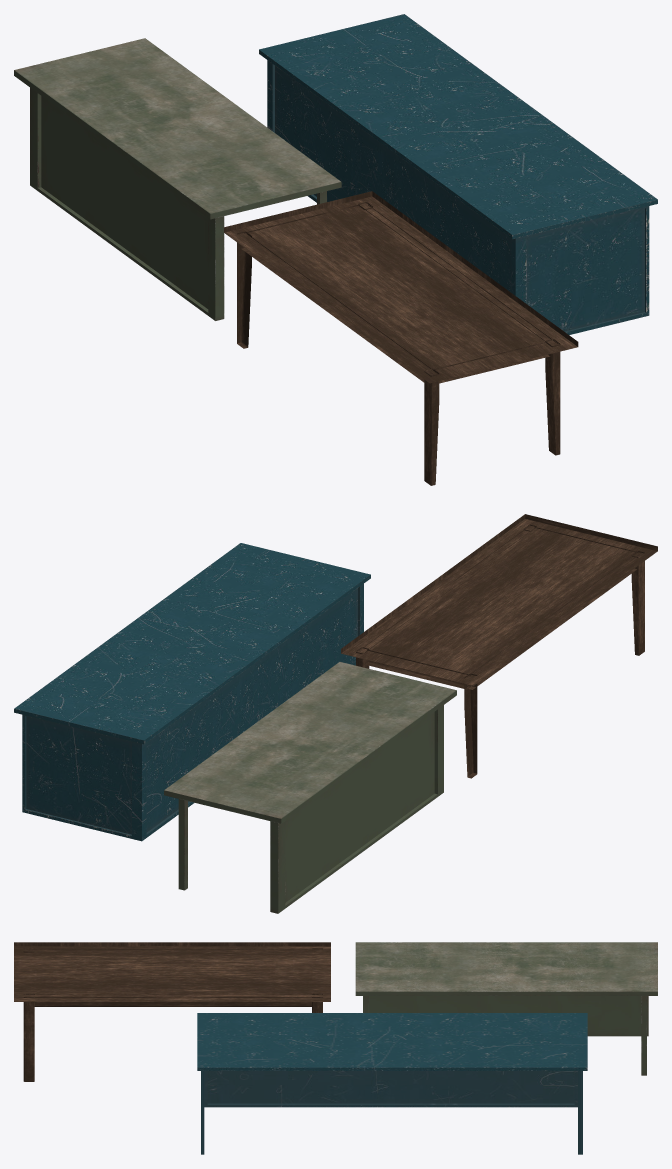
File: 3 mesas taller.fbx
3 views of the same model, one above another, from view 1: azimuth 30°, elevation 25°; view 2: azimuth 150°, elevation 25°; view 3: azimuth 270°, elevation 25° (orthographic). The views are drawn at different scales.
Parts seen in each view (by area): view 1: Material_014_material.004, Material_014_material.005, Material_014_material.006; view 2: Material_014_material.004, Material_014_material.005, Material_014_material.006; view 3: Material_014_material.004, Material_014_material.005, Material_014_material.006.
Boxes of the visible parts, x1=… form: Material_014_material.004: x1=259, y1=14, x2=657, y2=334; Material_014_material.005: x1=14, y1=38, x2=341, y2=320; Material_014_material.006: x1=224, y1=191, x2=578, y2=485; Material_014_material.004: x1=14, y1=543, x2=370, y2=841; Material_014_material.005: x1=164, y1=662, x2=456, y2=913; Material_014_material.006: x1=341, y1=514, x2=657, y2=778; Material_014_material.004: x1=197, y1=1013, x2=587, y2=1154; Material_014_material.005: x1=355, y1=942, x2=657, y2=1075; Material_014_material.006: x1=14, y1=942, x2=330, y2=1081.
Bounding box in the file's own units: 451 × 151 × 942.
3 materials, 3 textured.
